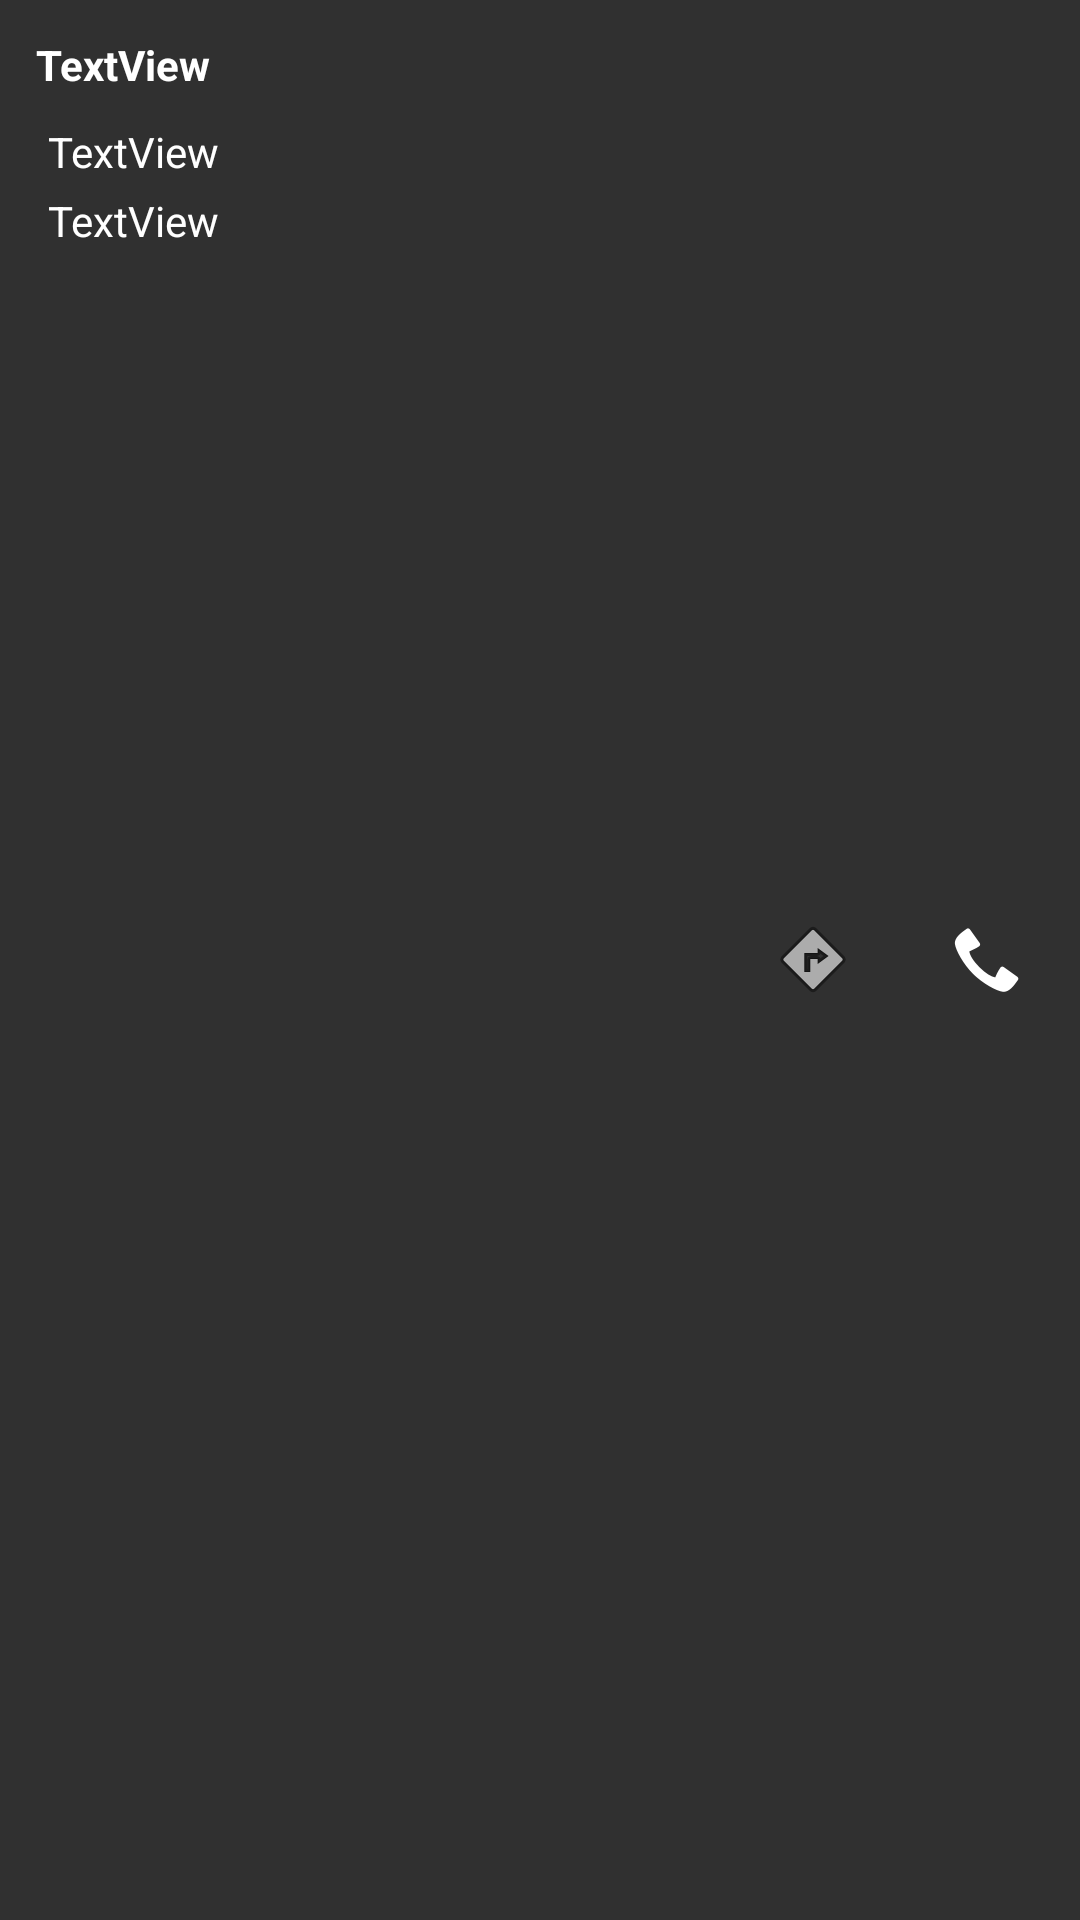

Point at icon controls on the screen. Image size 1080x1920, points as (x,y).
directions: (813,959)
phone call: (987,960)
